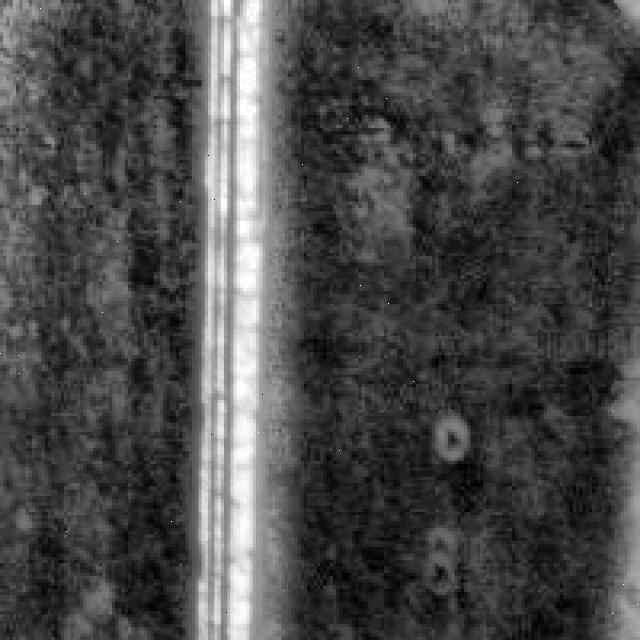Inclusion: (170, 0, 272, 634)
